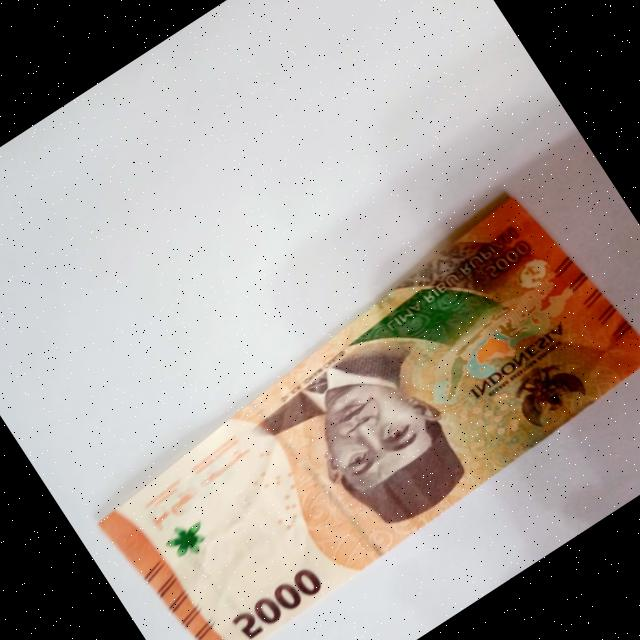5K: (58, 162, 640, 640)
